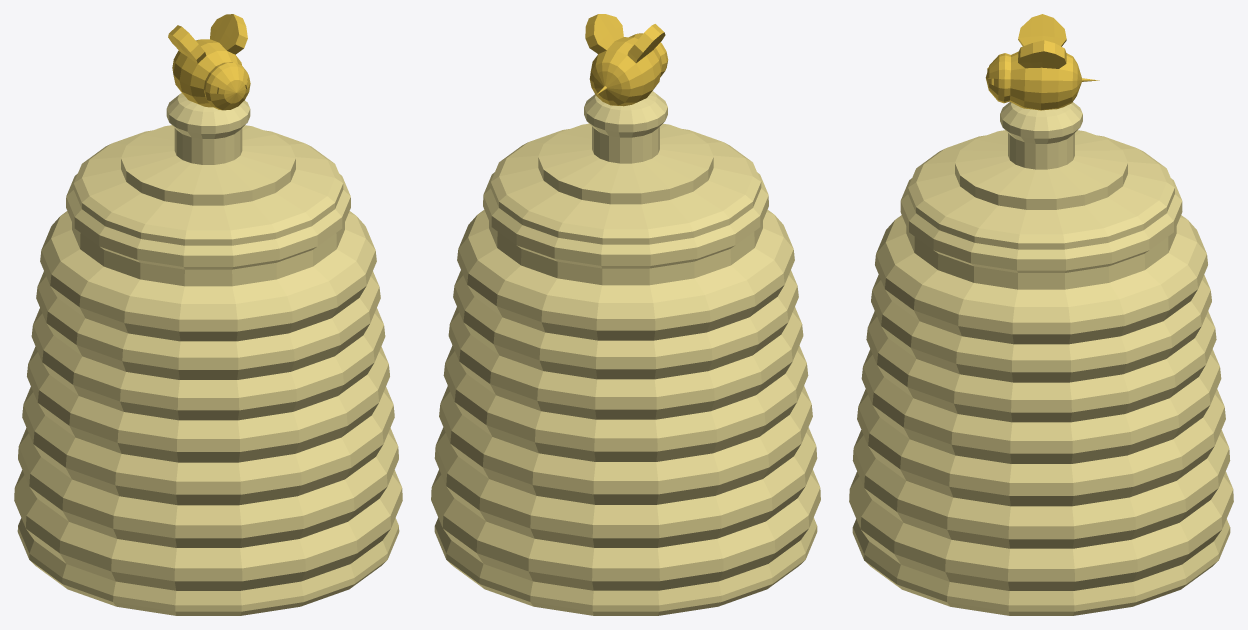
The model's file is NoMoneyJar.fbx.
3 renders of one model, left to right at view 1: azimuth 30°, elevation 25°; view 2: azimuth 150°, elevation 25°; view 3: azimuth 270°, elevation 25°, orthographic.
Parts seen in each view (by area): view 1: NoMoneyJar; view 2: NoMoneyJar; view 3: NoMoneyJar.
Part boxes in pixels (box(x1,y1,x2,y2)): NoMoneyJar: box(14, 14, 402, 615); NoMoneyJar: box(431, 14, 820, 615); NoMoneyJar: box(849, 14, 1233, 615).
Size of the model in its own units: 204 by 305 by 207.
